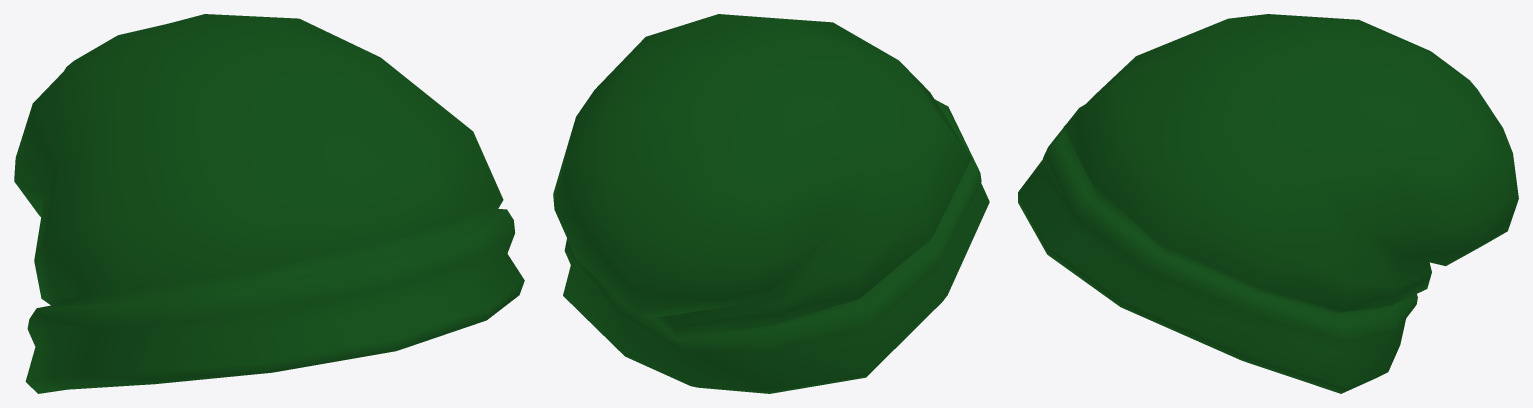
File: accessory-beanie.glb
The picture shows the model from 3 angles, left to right: view 1: azimuth 30°, elevation 25°; view 2: azimuth 150°, elevation 25°; view 3: azimuth 270°, elevation 25°; orthographic projection. The views are drawn at different scales.
Parts seen in each view (by area): view 1: accessory__beanie__0; view 2: accessory__beanie__0; view 3: accessory__beanie__0.
Boxes of the visible parts, left/top/right/bottom form: accessory__beanie__0: left=14, top=14, right=524, bottom=393; accessory__beanie__0: left=553, top=14, right=989, bottom=393; accessory__beanie__0: left=1018, top=14, right=1518, bottom=393.
Bounding box in the file's own units: 0.7518 × 0.614 × 0.8945.
